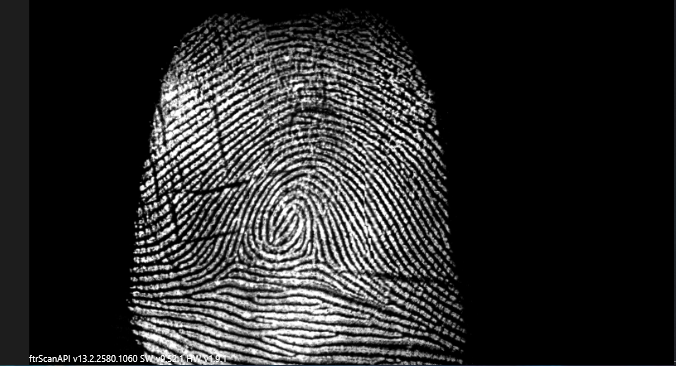nucelo: (278, 203, 310, 240)
verticilo: (223, 241, 255, 269), (306, 249, 337, 272)
